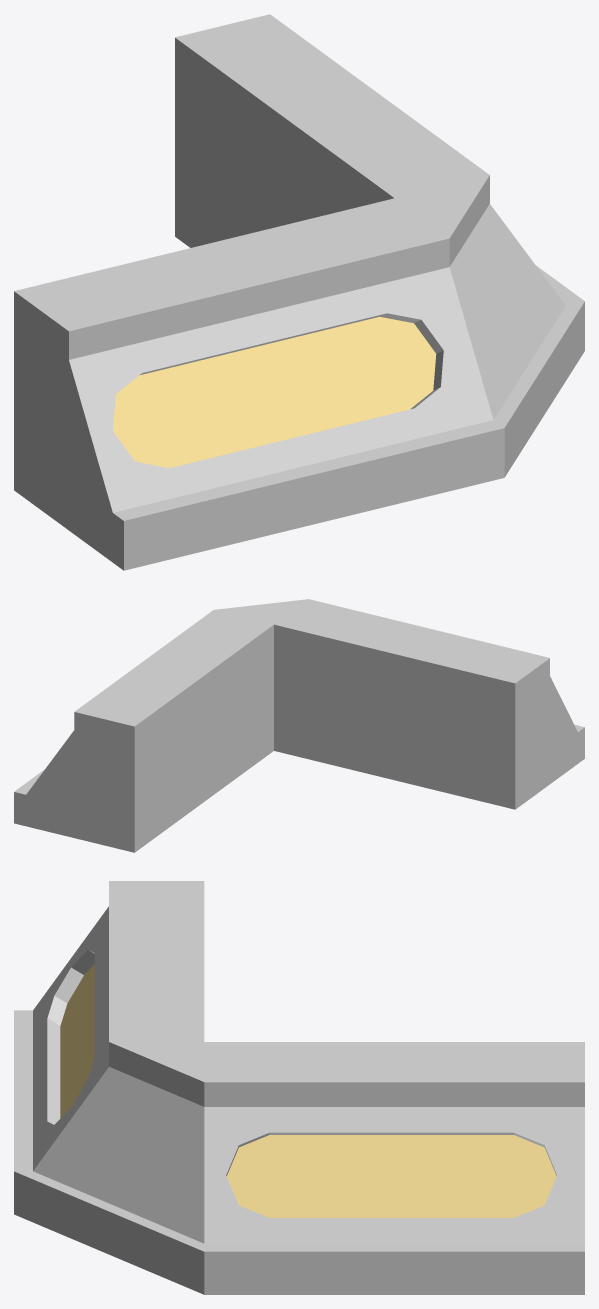
File: SciFi_Tile_White_Corner_Outer_Lights_01.fbx
3 renders of one model, top to bottom at view 1: azimuth 30°, elevation 25°; view 2: azimuth 150°, elevation 25°; view 3: azimuth 270°, elevation 25°, orthographic. The views are drawn at different scales.
Visible parts, largest first — view 1: Model; view 2: Model; view 3: Model.
Part boxes in pixels (x1=…): Model: x1=14, y1=14, x2=584, y2=570; Model: x1=14, y1=599, x2=584, y2=852; Model: x1=14, y1=881, x2=584, y2=1294.
Size of the model in its own units: 750 by 250 by 750.
